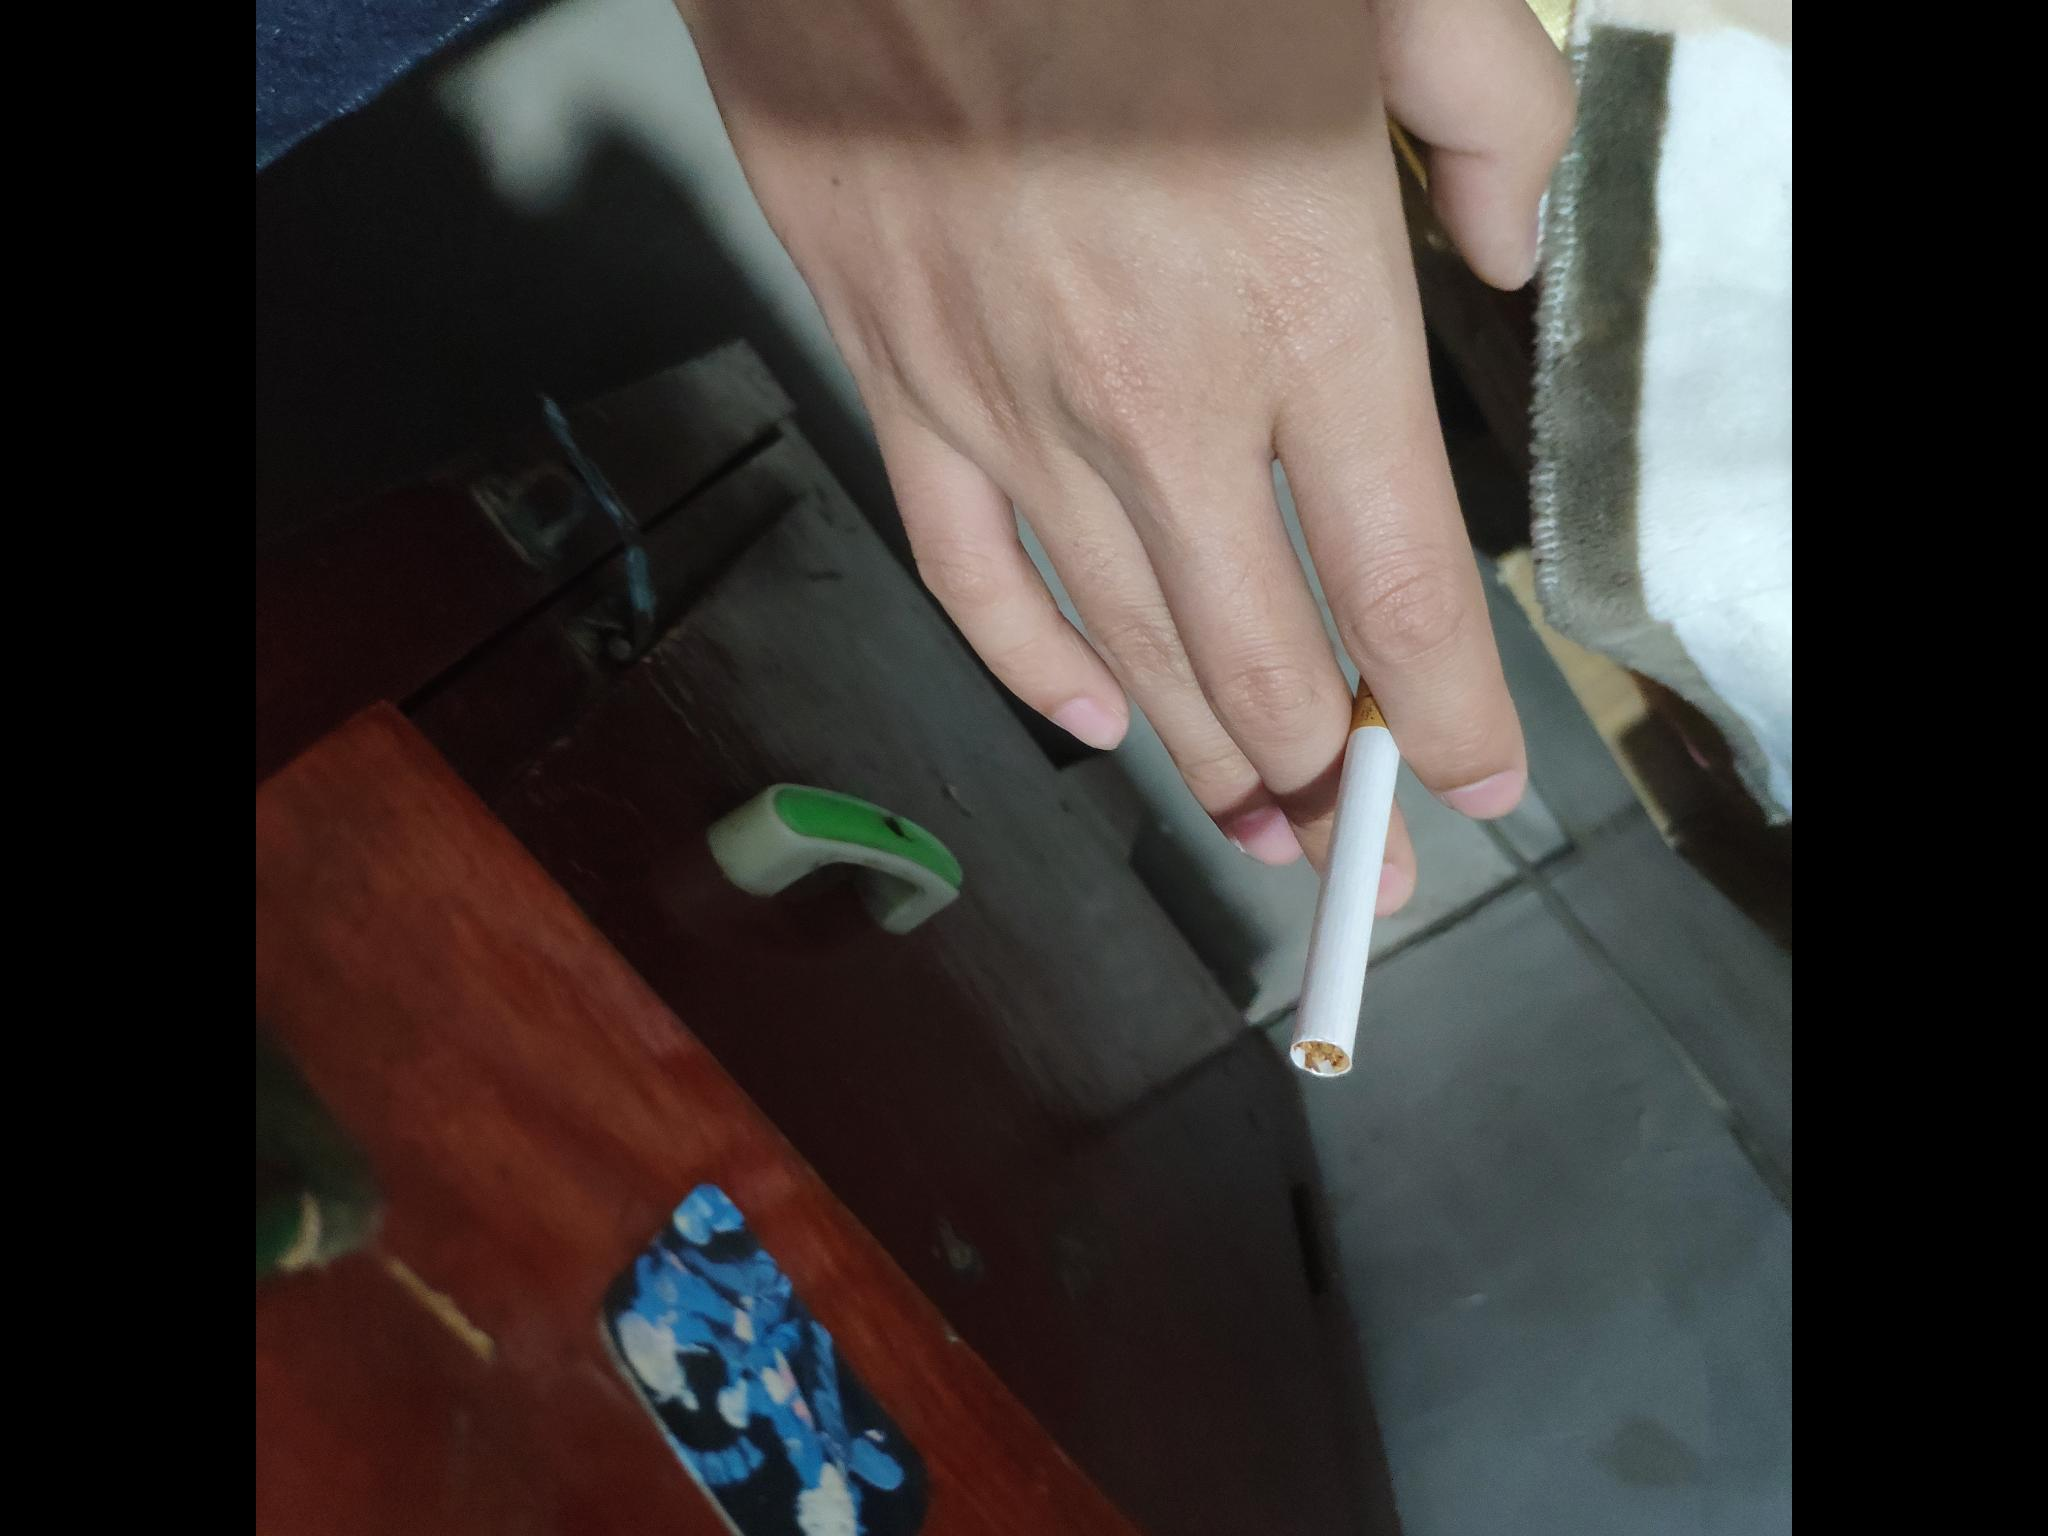Cigarette: (963, 1286, 1348, 1399)
